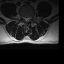CCS_normal: (26, 15, 28, 23)
LFS_normal: (30, 15, 32, 20)
LLS_normal: (28, 15, 30, 22)
RFS_normal: (21, 14, 24, 21)
RLS_normal: (24, 15, 25, 22)
